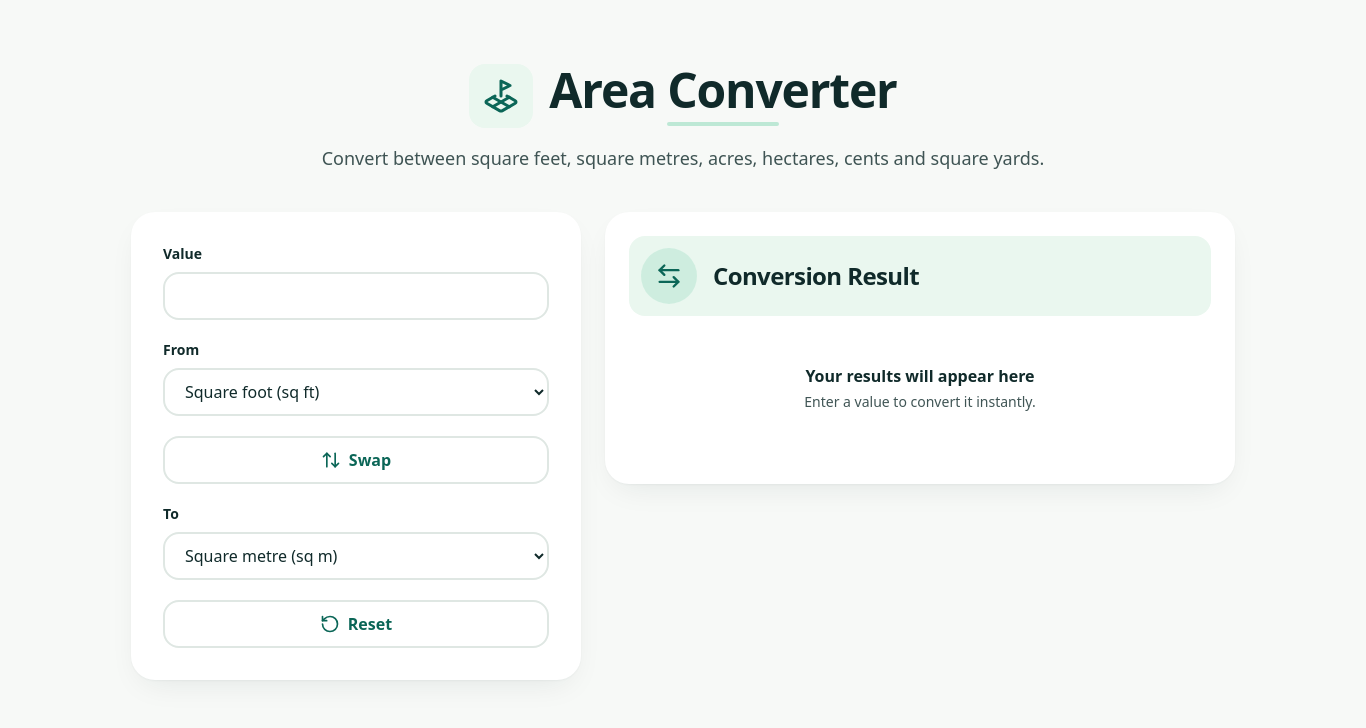
Test: Area Converter › shows an error for negative values
The width and height of the screenshot is (1366, 728).
Type "-1" into the field labelled "Value" at (356, 296), box [163,272,549,320]
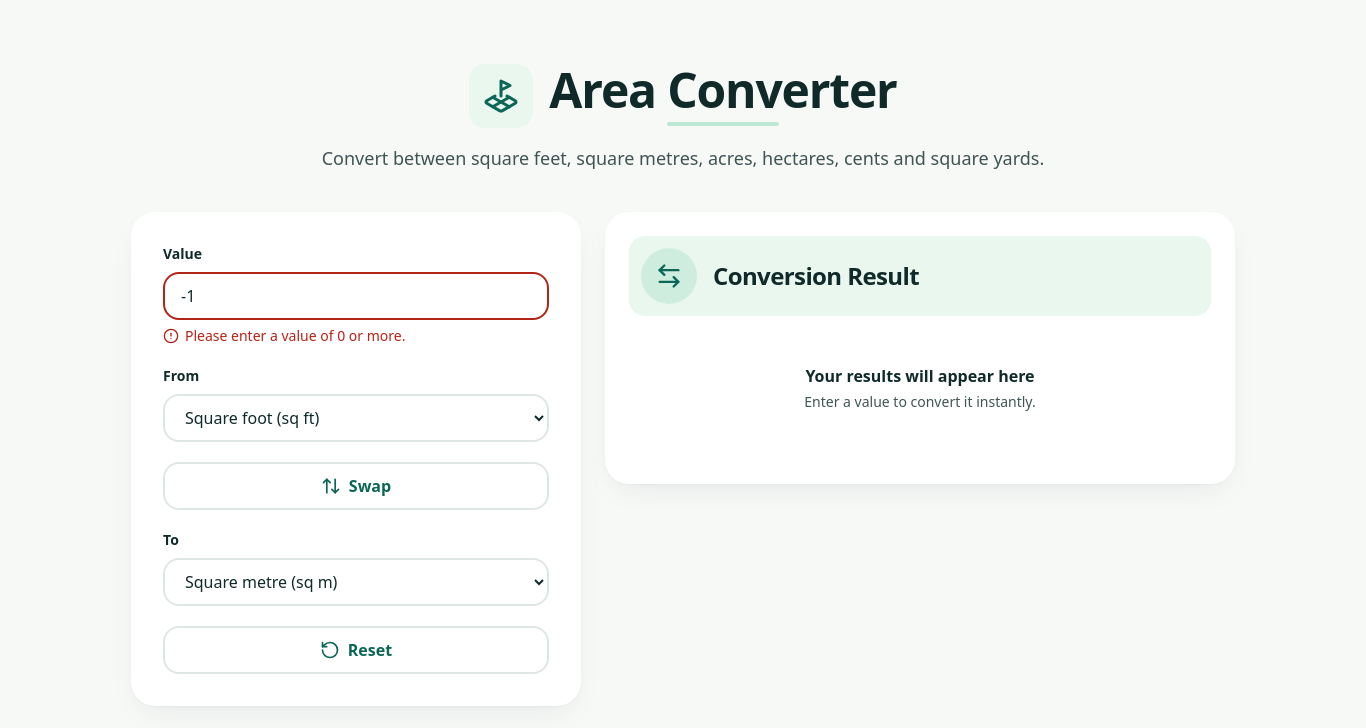
Expected: the text "Please enter a value of 0 or more." is shown, [163,326,405,345]
